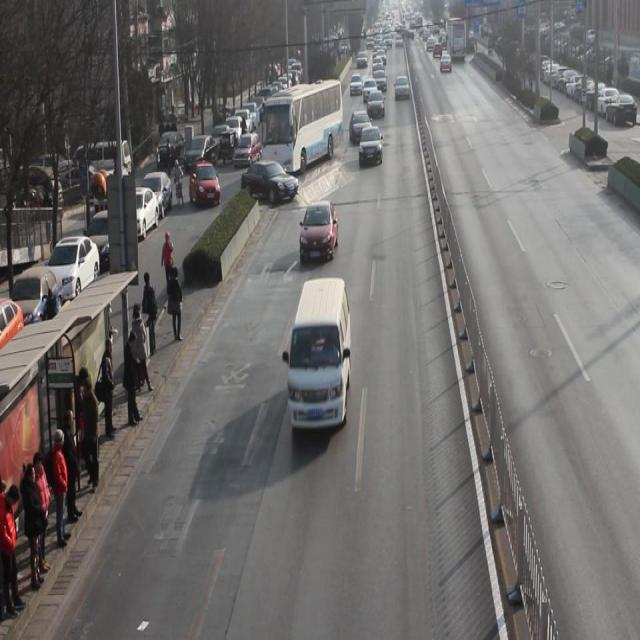car: (240, 158, 299, 207), (300, 200, 339, 264), (359, 126, 383, 167), (349, 111, 374, 146)
truck: (288, 276, 351, 434)
van: (261, 79, 341, 171)
